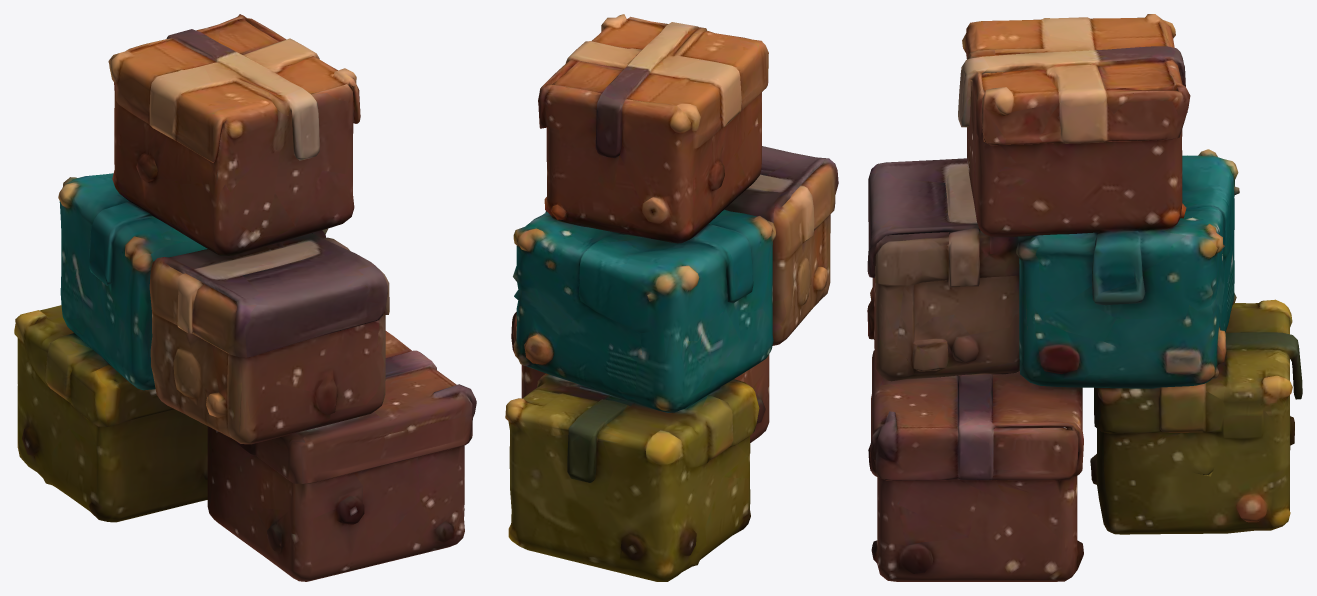
Rendered from deco_cardboard.glb.
3 views of the same model, side by side, from view 1: azimuth 30°, elevation 25°; view 2: azimuth 150°, elevation 25°; view 3: azimuth 270°, elevation 25° (orthographic). The views are drawn at different scales.
Visible parts, largest first — view 1: tripo_node_6027693a-08ee-4066-91fa-8b173e1e42af; view 2: tripo_node_6027693a-08ee-4066-91fa-8b173e1e42af; view 3: tripo_node_6027693a-08ee-4066-91fa-8b173e1e42af.
Boxes of the visible parts, <box> form: tripo_node_6027693a-08ee-4066-91fa-8b173e1e42af: <box>14,14,476,581</box>; tripo_node_6027693a-08ee-4066-91fa-8b173e1e42af: <box>505,14,838,581</box>; tripo_node_6027693a-08ee-4066-91fa-8b173e1e42af: <box>867,14,1302,581</box>.
Size of the model in its own units: 0.6457 by 1 by 0.8478.
Materials: 1 (1 with a texture image).
